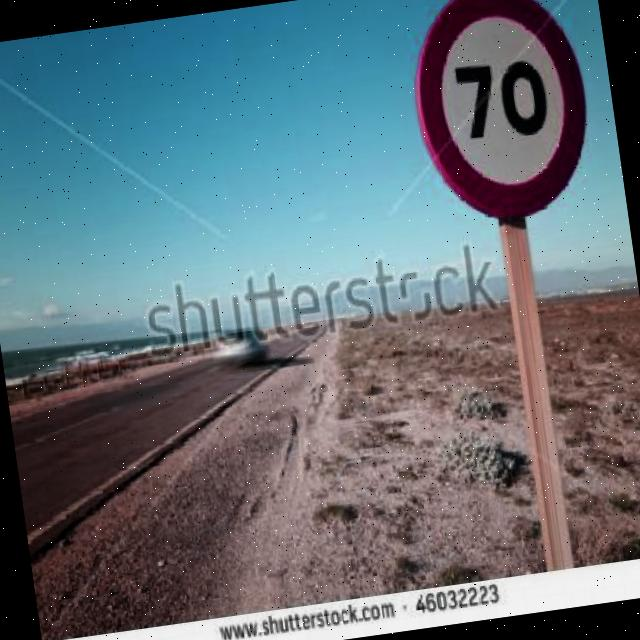Ograniczenie predkosci do 70: (410, 0, 598, 238)
